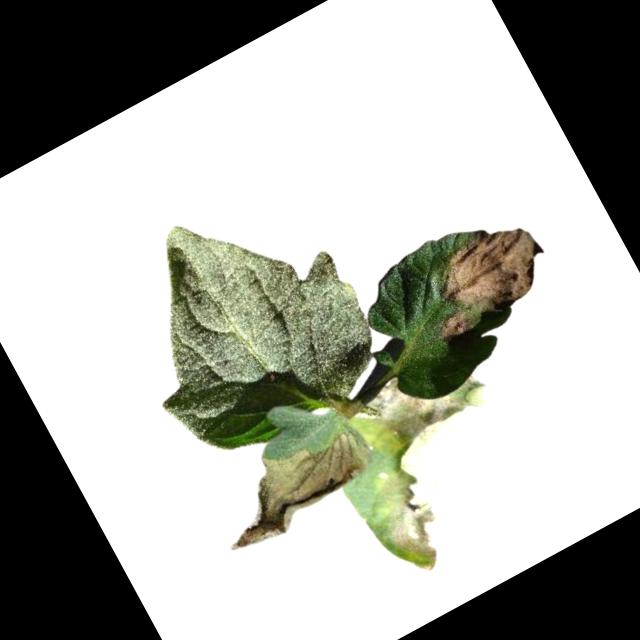Late_blight: (322, 344, 547, 578), (194, 408, 386, 563), (405, 209, 560, 342)
healthy: (88, 162, 401, 479)
